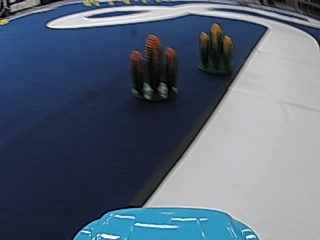corn: (131, 32, 178, 104), (197, 22, 234, 76)
